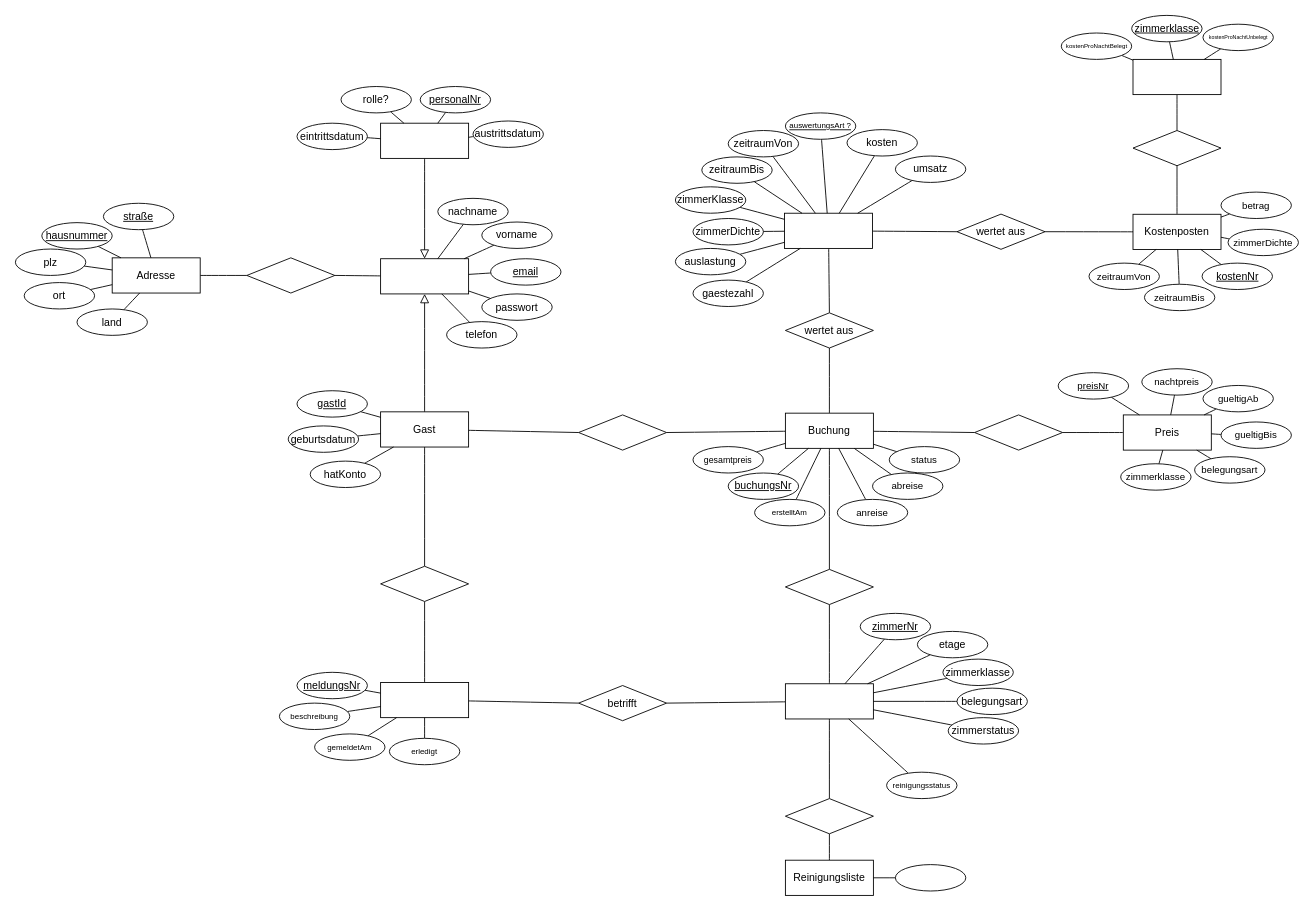
The diagram is 1314 pixels wide and 911 high, and some of its shapes have lost their labels. Here are the shapes that lost their labels. From the top down, the box of each, then its label:
(1132, 59, 1221, 95): Kostensatz
(380, 122, 469, 158): Mitarbeiter
(1132, 130, 1221, 166): nutzt
(784, 212, 873, 248): Statistik
(246, 257, 335, 293): wohnt an
(380, 258, 469, 294): Benutzer
(578, 414, 667, 450): bucht
(974, 414, 1063, 450): berechnet mit
(380, 565, 469, 601): meldet
(785, 568, 873, 605): hat
(380, 682, 469, 718): Defektmeldung
(785, 683, 873, 719): Zimmer
(785, 798, 873, 834): enthält
(895, 864, 966, 891): datum
